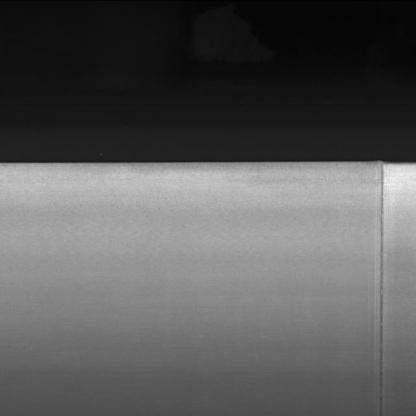welding_line: (368, 160, 392, 415)
